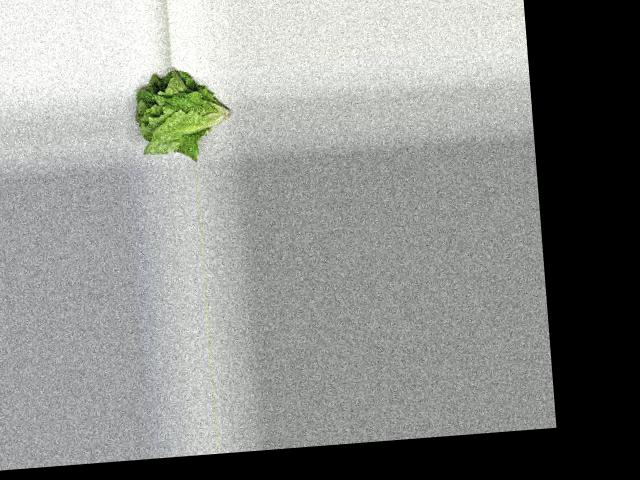lettuce: (131, 65, 236, 165)
